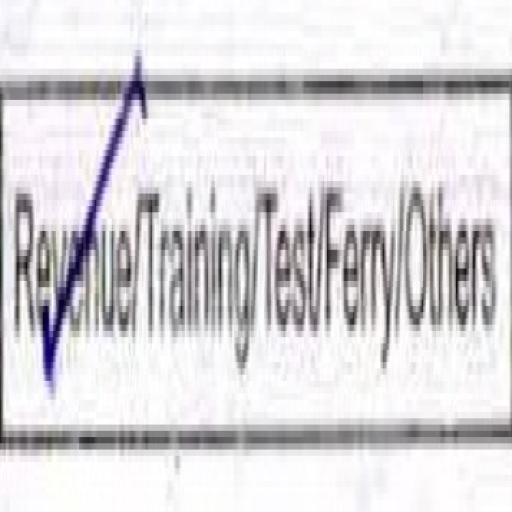check: (1, 0, 136, 505)
